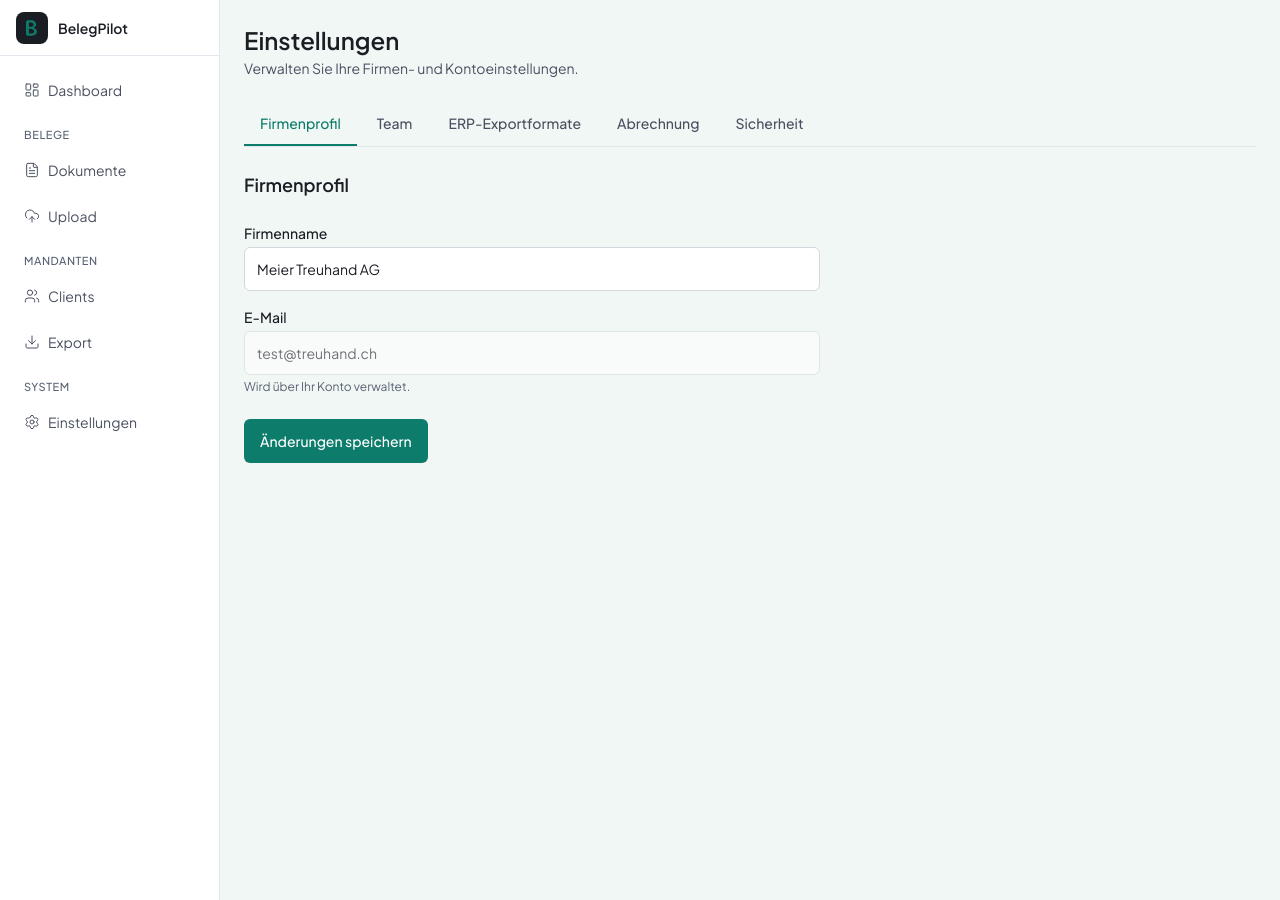
Settings › switches to security tab
This screenshot has width=1280, height=900.
Click the tab "Sicherheit" at point(769, 124), box 719,102 -> 819,146
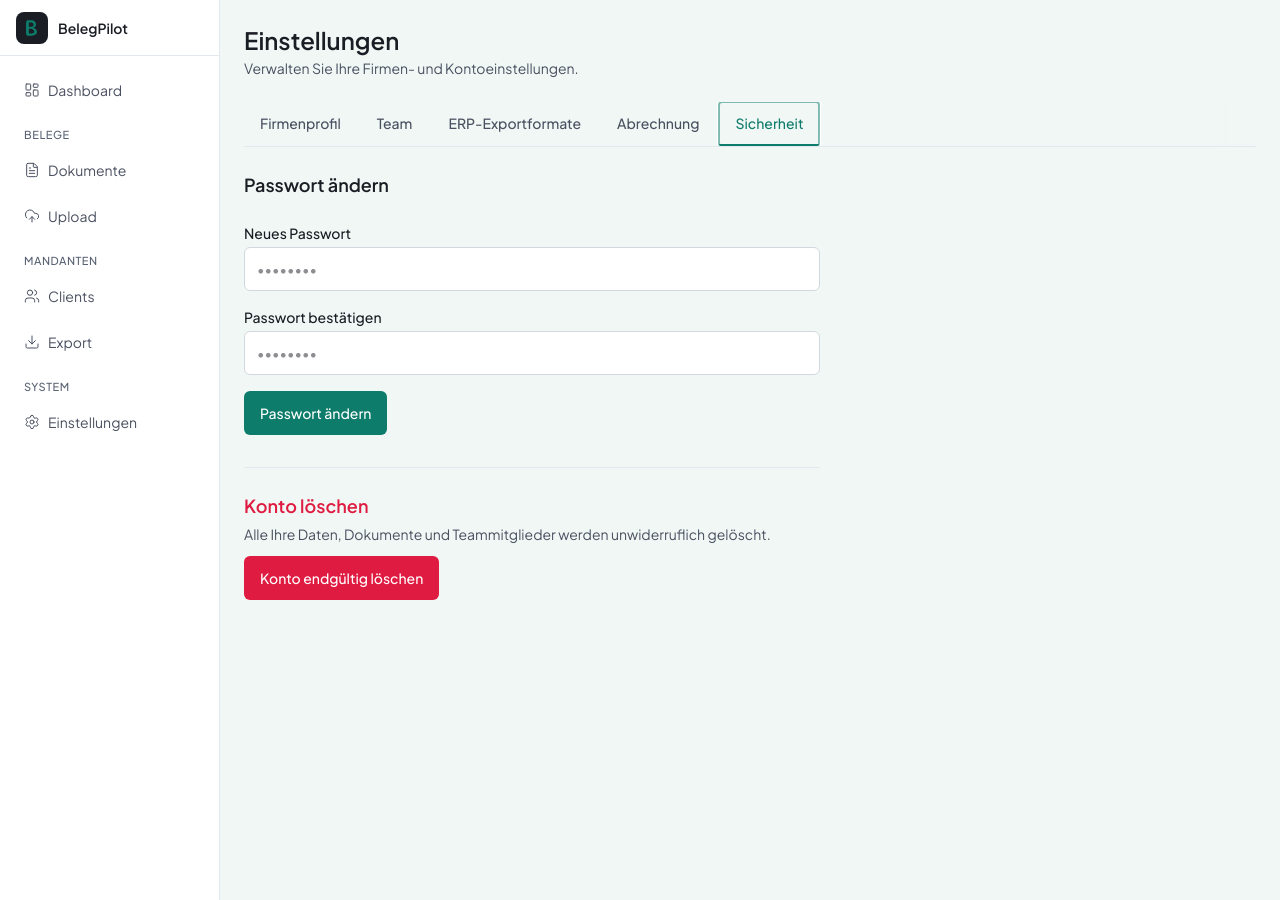
Result: the heading "Passwort ändern" is shown at 244,173 -> 389,196
Result: the heading "Konto löschen" is shown at 244,494 -> 368,517
